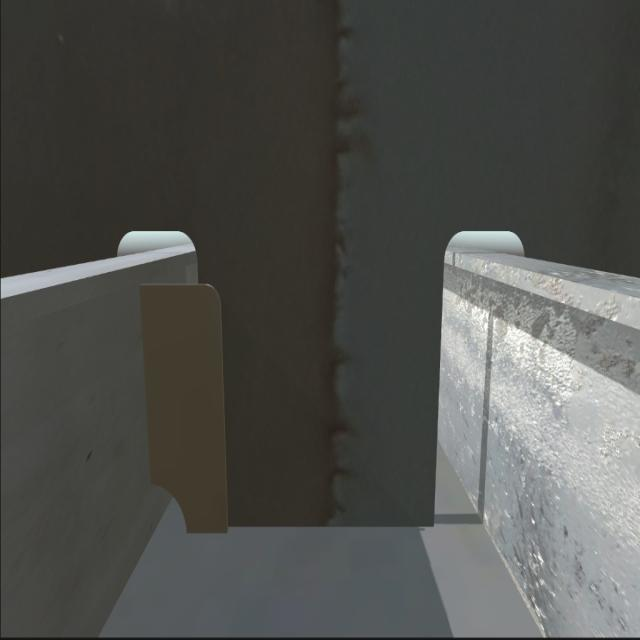fillet_hole: (150, 476, 188, 534)
fillet_yong_jeop_jang: (184, 510, 436, 539)
longi_yong_jeop_jang: (134, 284, 159, 492)
plate_CP05: (140, 284, 228, 534)
